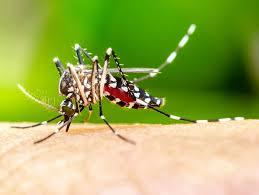Insects: (9, 20, 252, 147)
